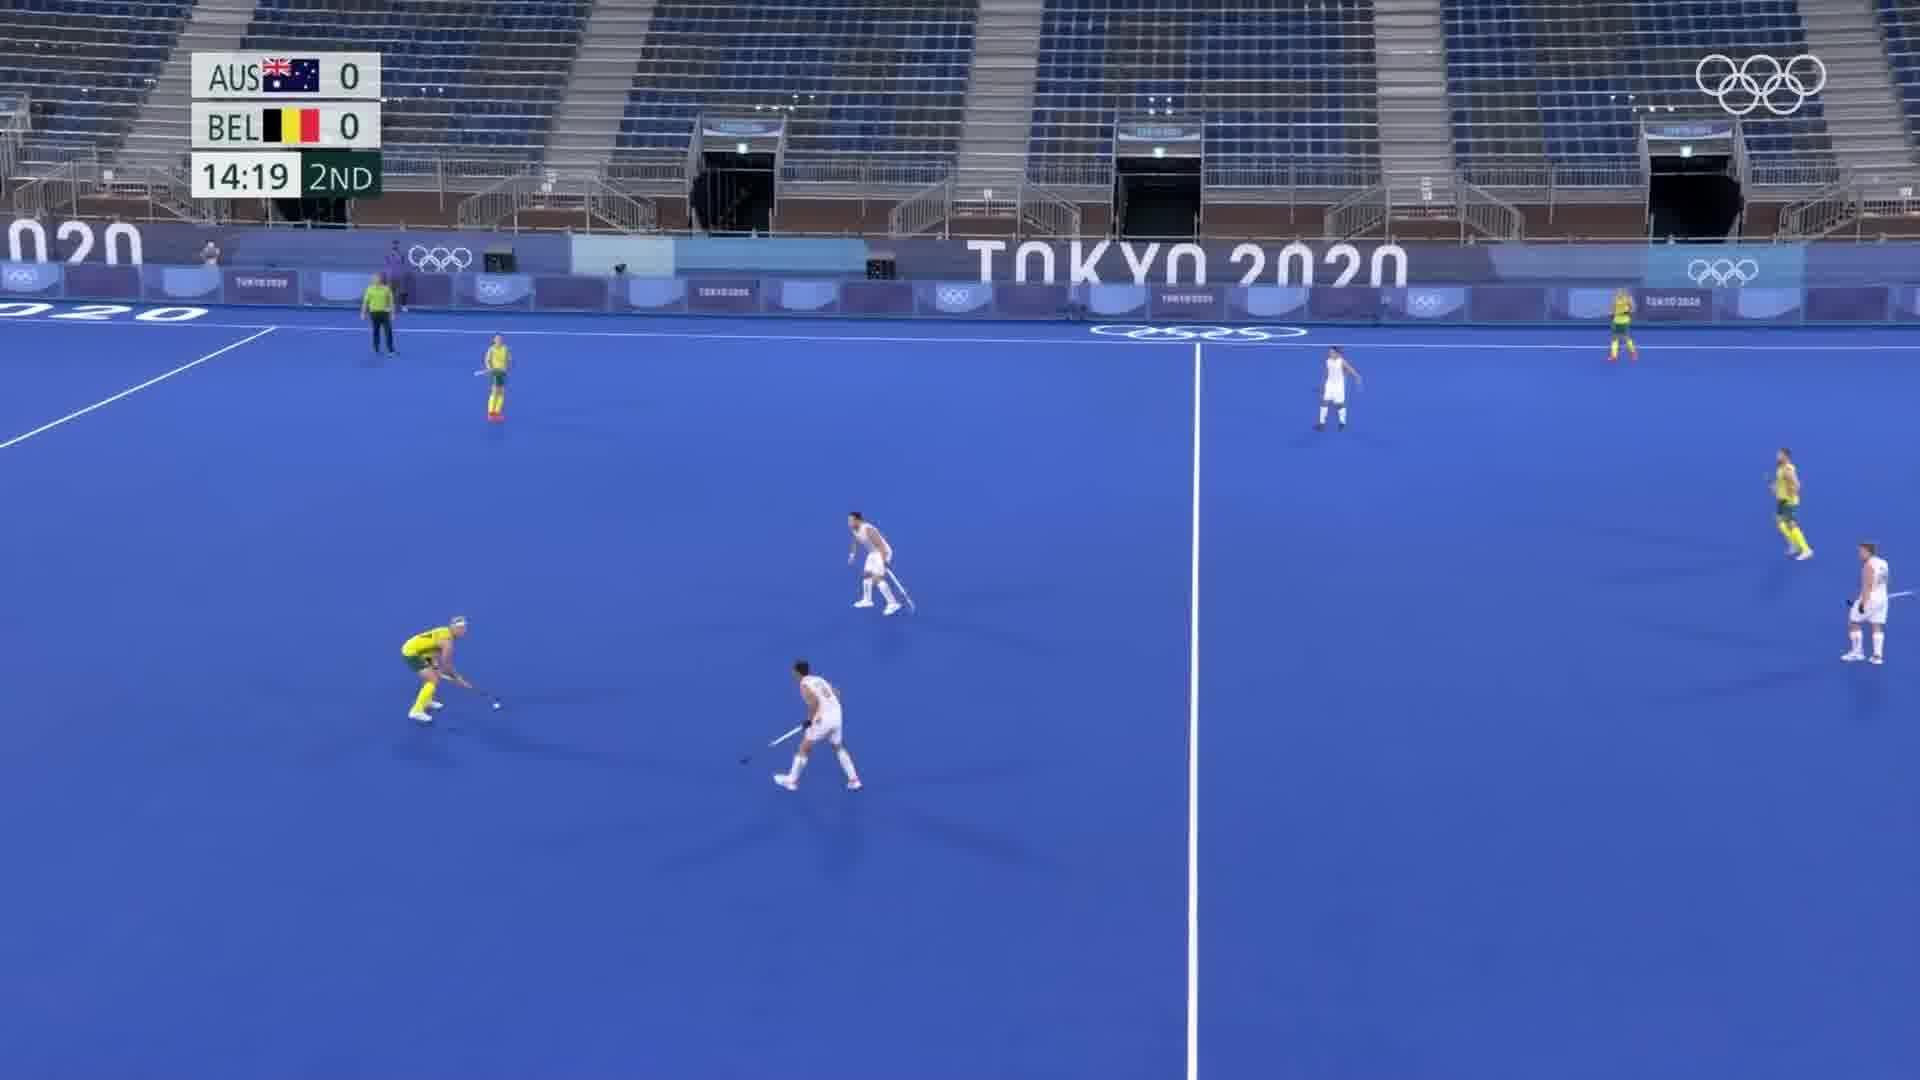ball: (489, 698, 506, 715)
